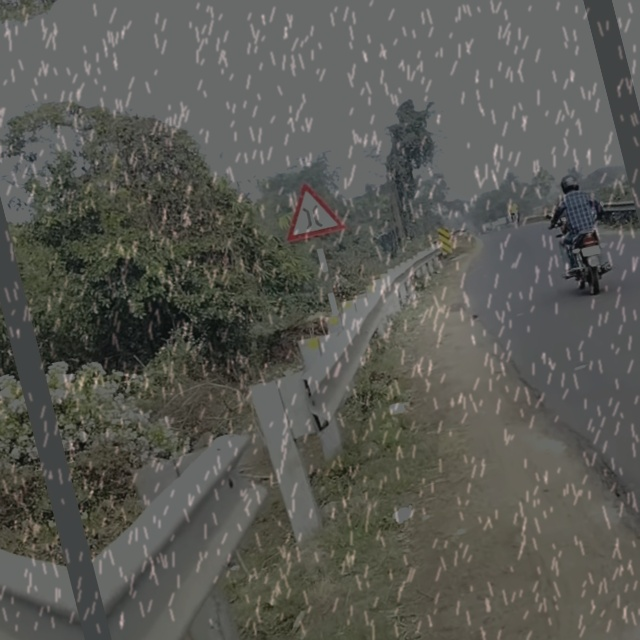Narrow_Bridge: (277, 177, 339, 241)
